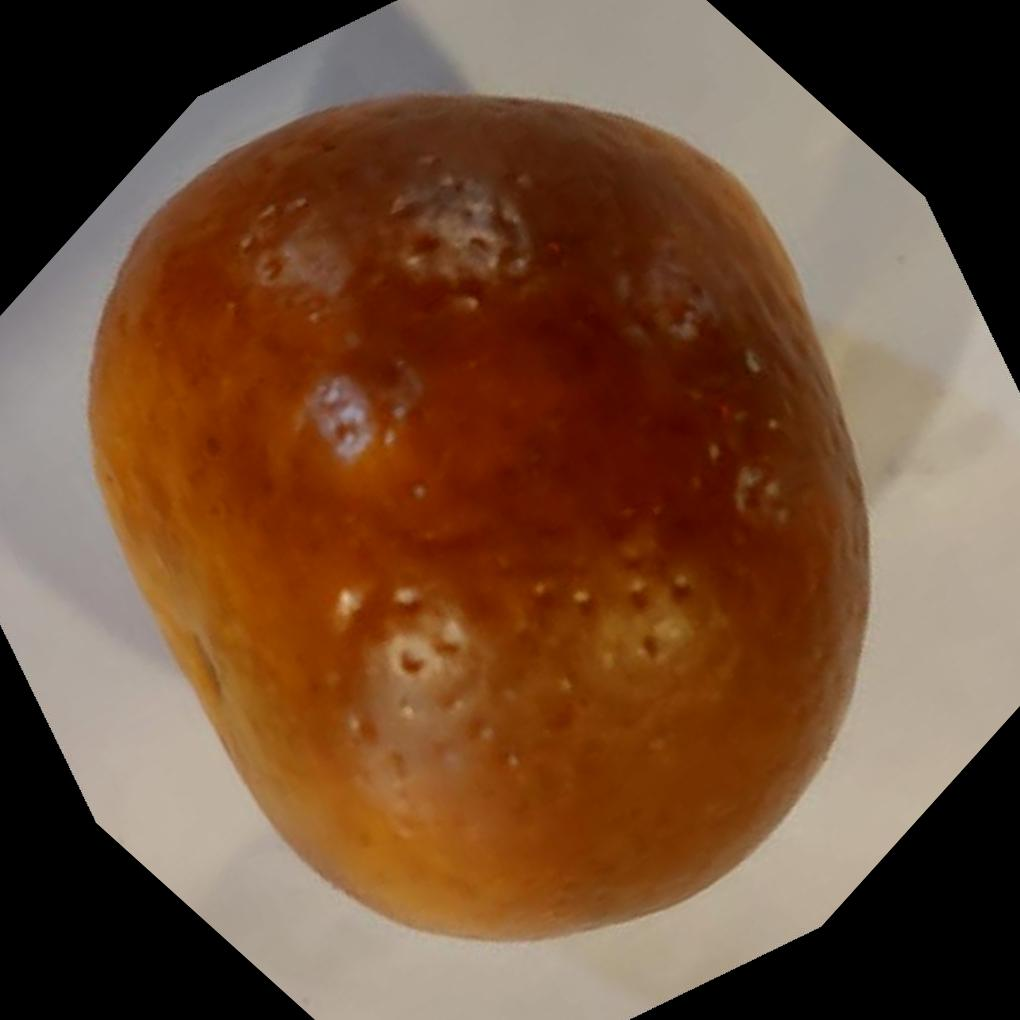FreshOrange: (81, 86, 871, 942)
